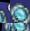mirror: (10, 0, 30, 23), (0, 0, 10, 23), (2, 23, 10, 31)
